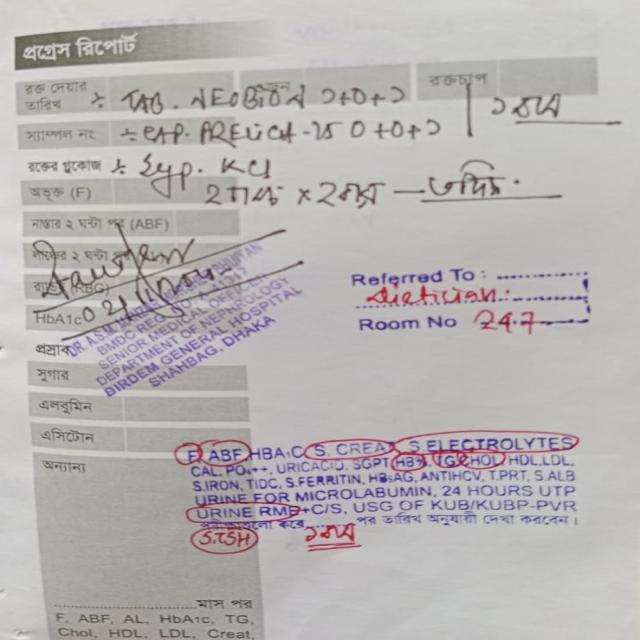KCL: (213, 153, 287, 180)
Neobion: (187, 79, 320, 112)
Prelica: (196, 118, 304, 148)
